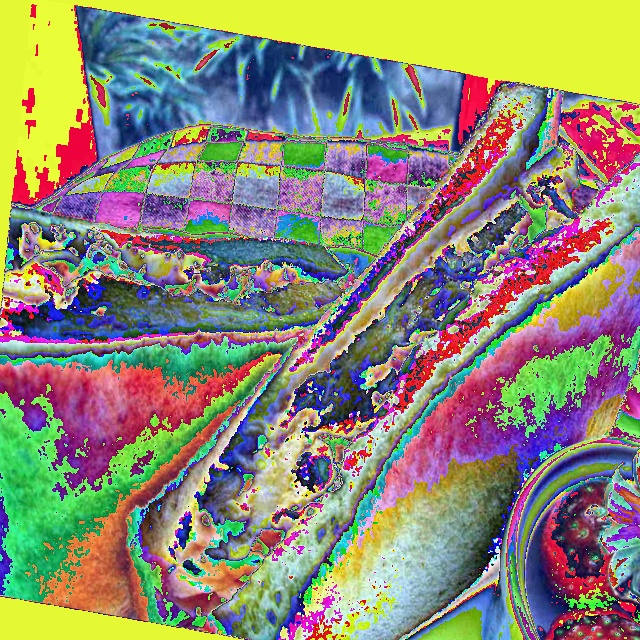background: (0, 82, 640, 639), (103, 192, 639, 639)
